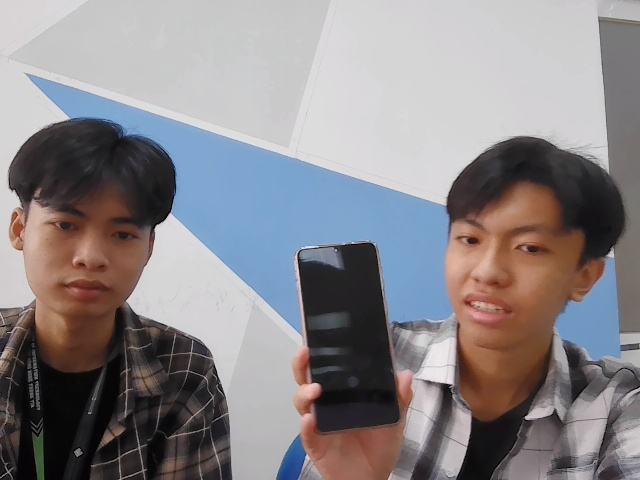human: (441, 128, 626, 350), (15, 112, 166, 316)
phone: (287, 237, 411, 437)
